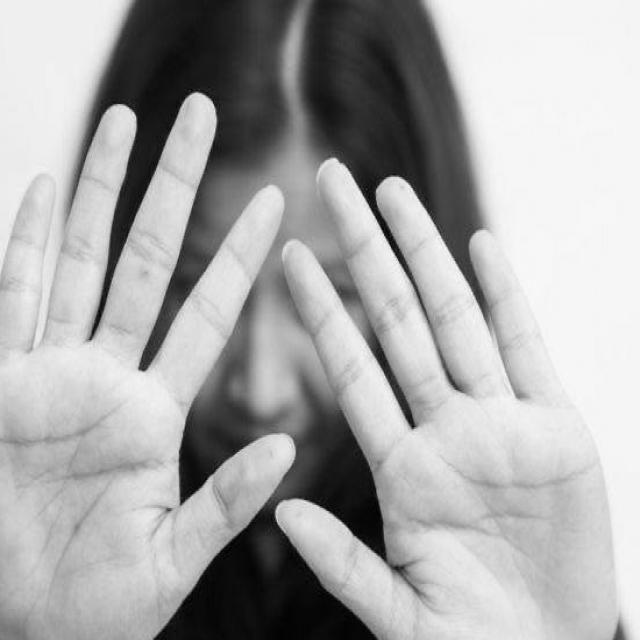stop: (266, 149, 622, 640), (0, 84, 299, 640)
